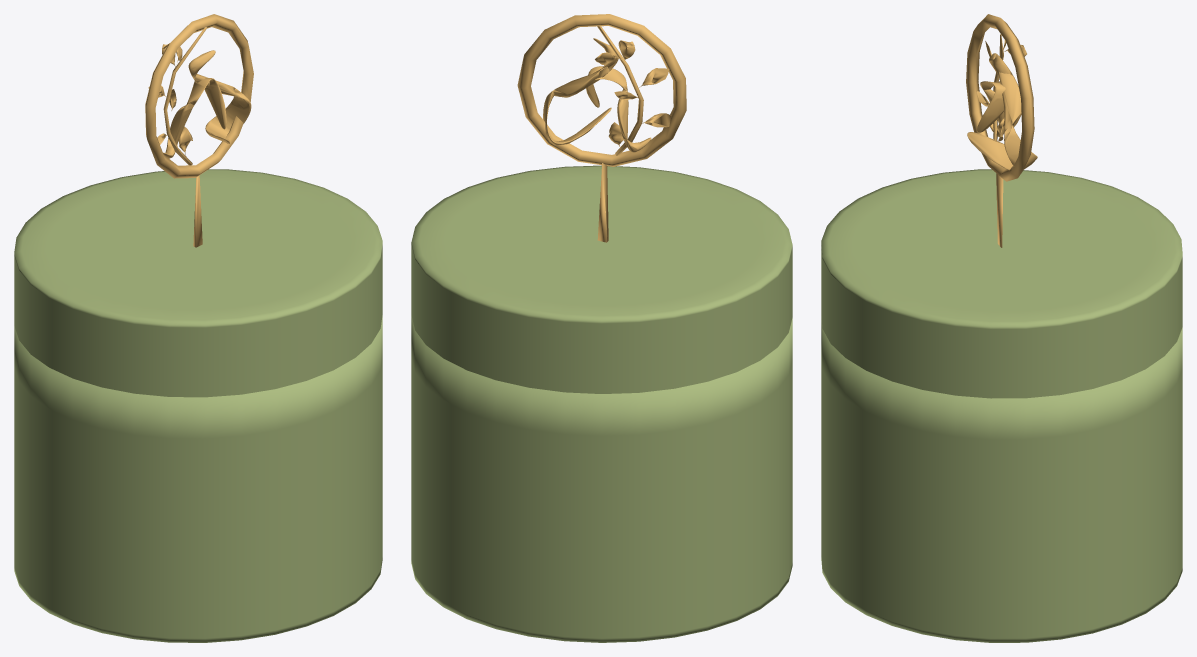
The model's file is 1-tier-pistage-none-ring.glb.
3 renders of one model, left to right at view 1: azimuth 30°, elevation 25°; view 2: azimuth 150°, elevation 25°; view 3: azimuth 270°, elevation 25°, orthographic.
Parts seen in each view (by area): view 1: Cylinder.019, Cylinder.017; view 2: Cylinder.019, Cylinder.017; view 3: Cylinder.019, Cylinder.017.
Part boxes in pixels (<box>): Cylinder.019: <box>14,169,382,642</box>; Cylinder.017: <box>145,14,253,247</box>; Cylinder.019: <box>411,165,792,642</box>; Cylinder.017: <box>517,14,686,242</box>; Cylinder.019: <box>821,169,1182,642</box>; Cylinder.017: <box>966,14,1037,247</box>.
Size of the model in its own units: 2.63 by 4.23 by 2.55.
